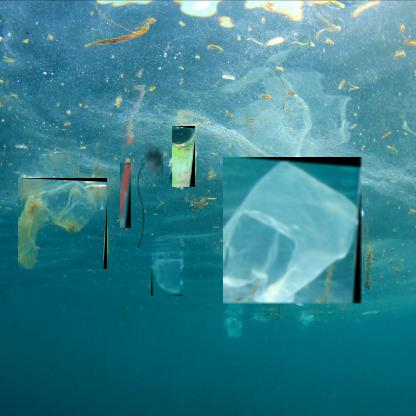can: (172, 126, 196, 188)
plastic-bag: (224, 157, 364, 306), (151, 259, 184, 297)
waste: (19, 178, 108, 270), (120, 163, 132, 229), (145, 148, 164, 176)
